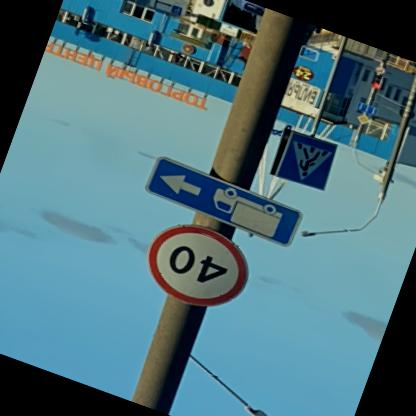crosswalk: (273, 128, 341, 194)
speedlimit: (136, 212, 260, 322)
